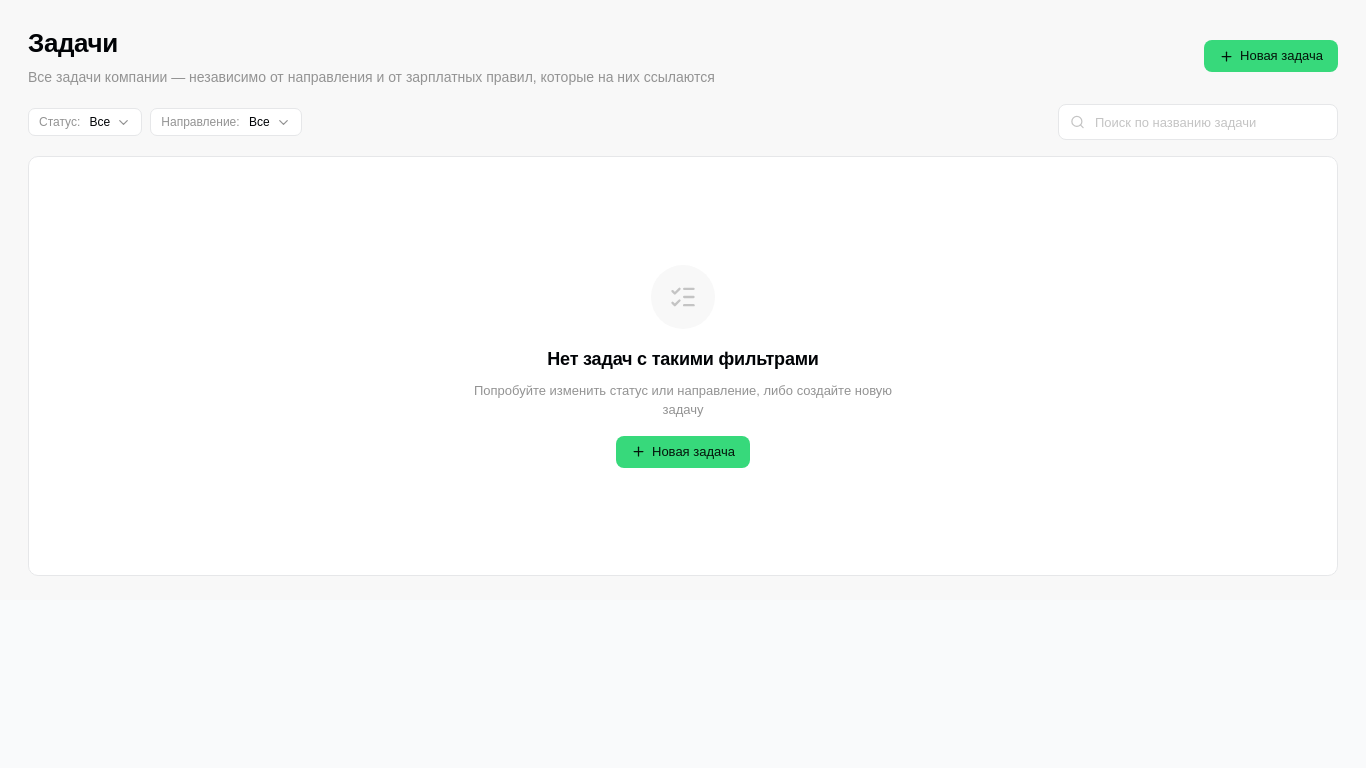
Test: TasksPageMediator › "Новая задача" opens the create-task modal with CreateTaskForm
Expected: the heading "Нет задач с такими фильтрами" is shown, [547,344,819,372]
Click the 1st button "Новая задача".
click(1271, 56)  # box [1204,40,1338,72]
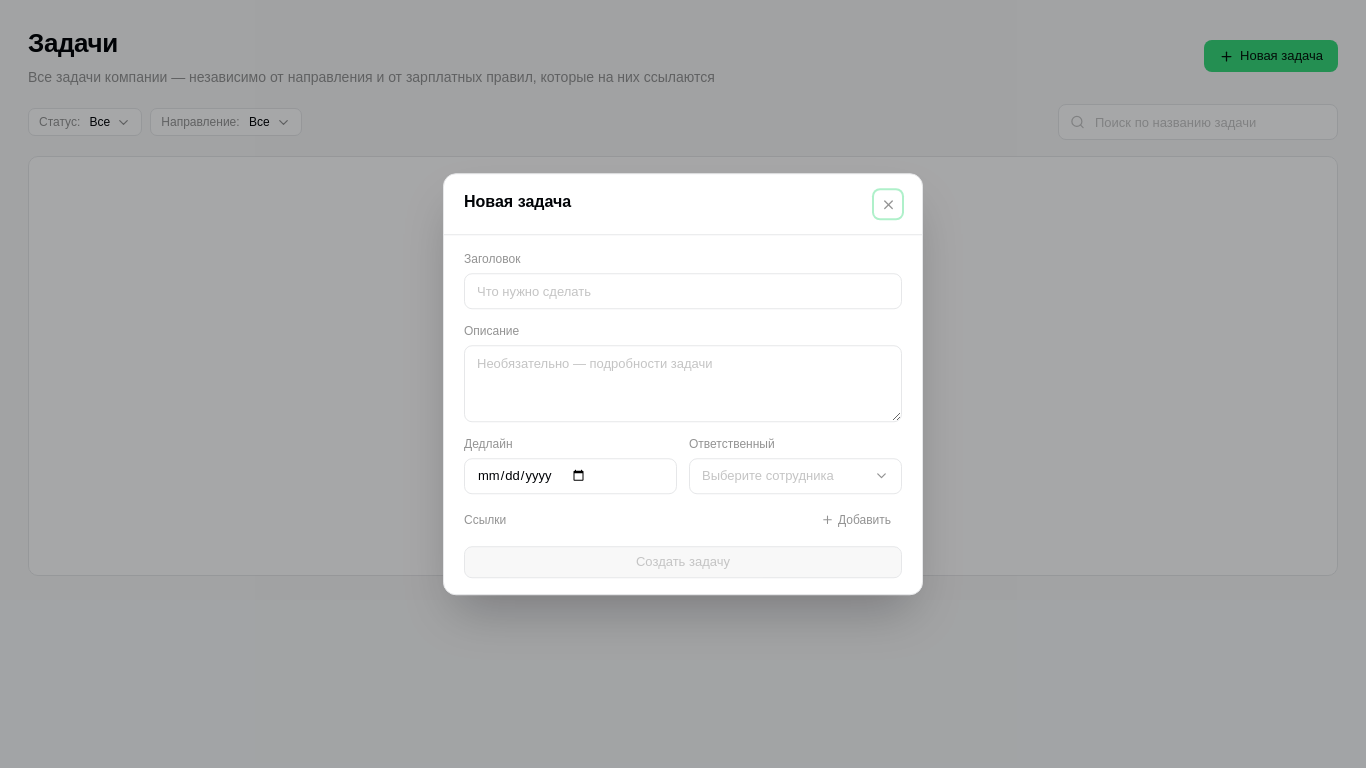
Now the button "Создать задачу" is shown, box [464,546,902,578]
